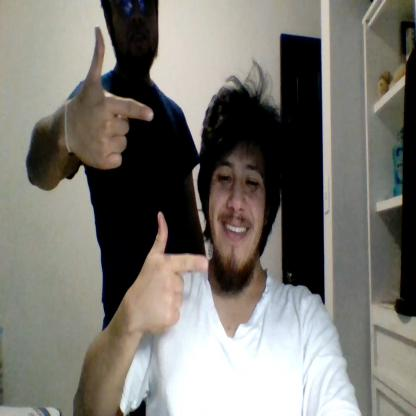G: (77, 27, 154, 171), (137, 211, 209, 332)
